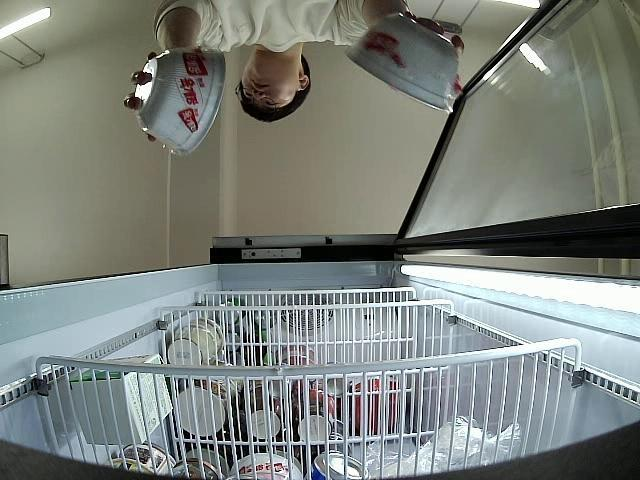09_yukGaeJang: (344, 12, 455, 111), (134, 44, 226, 156)
